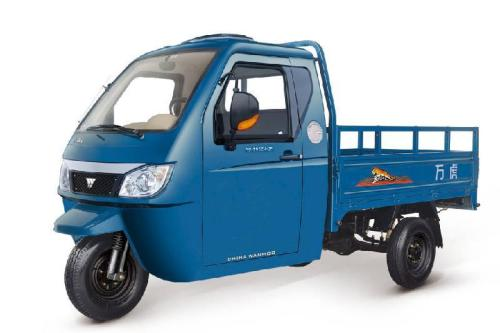tricycle: (50, 20, 478, 313)
